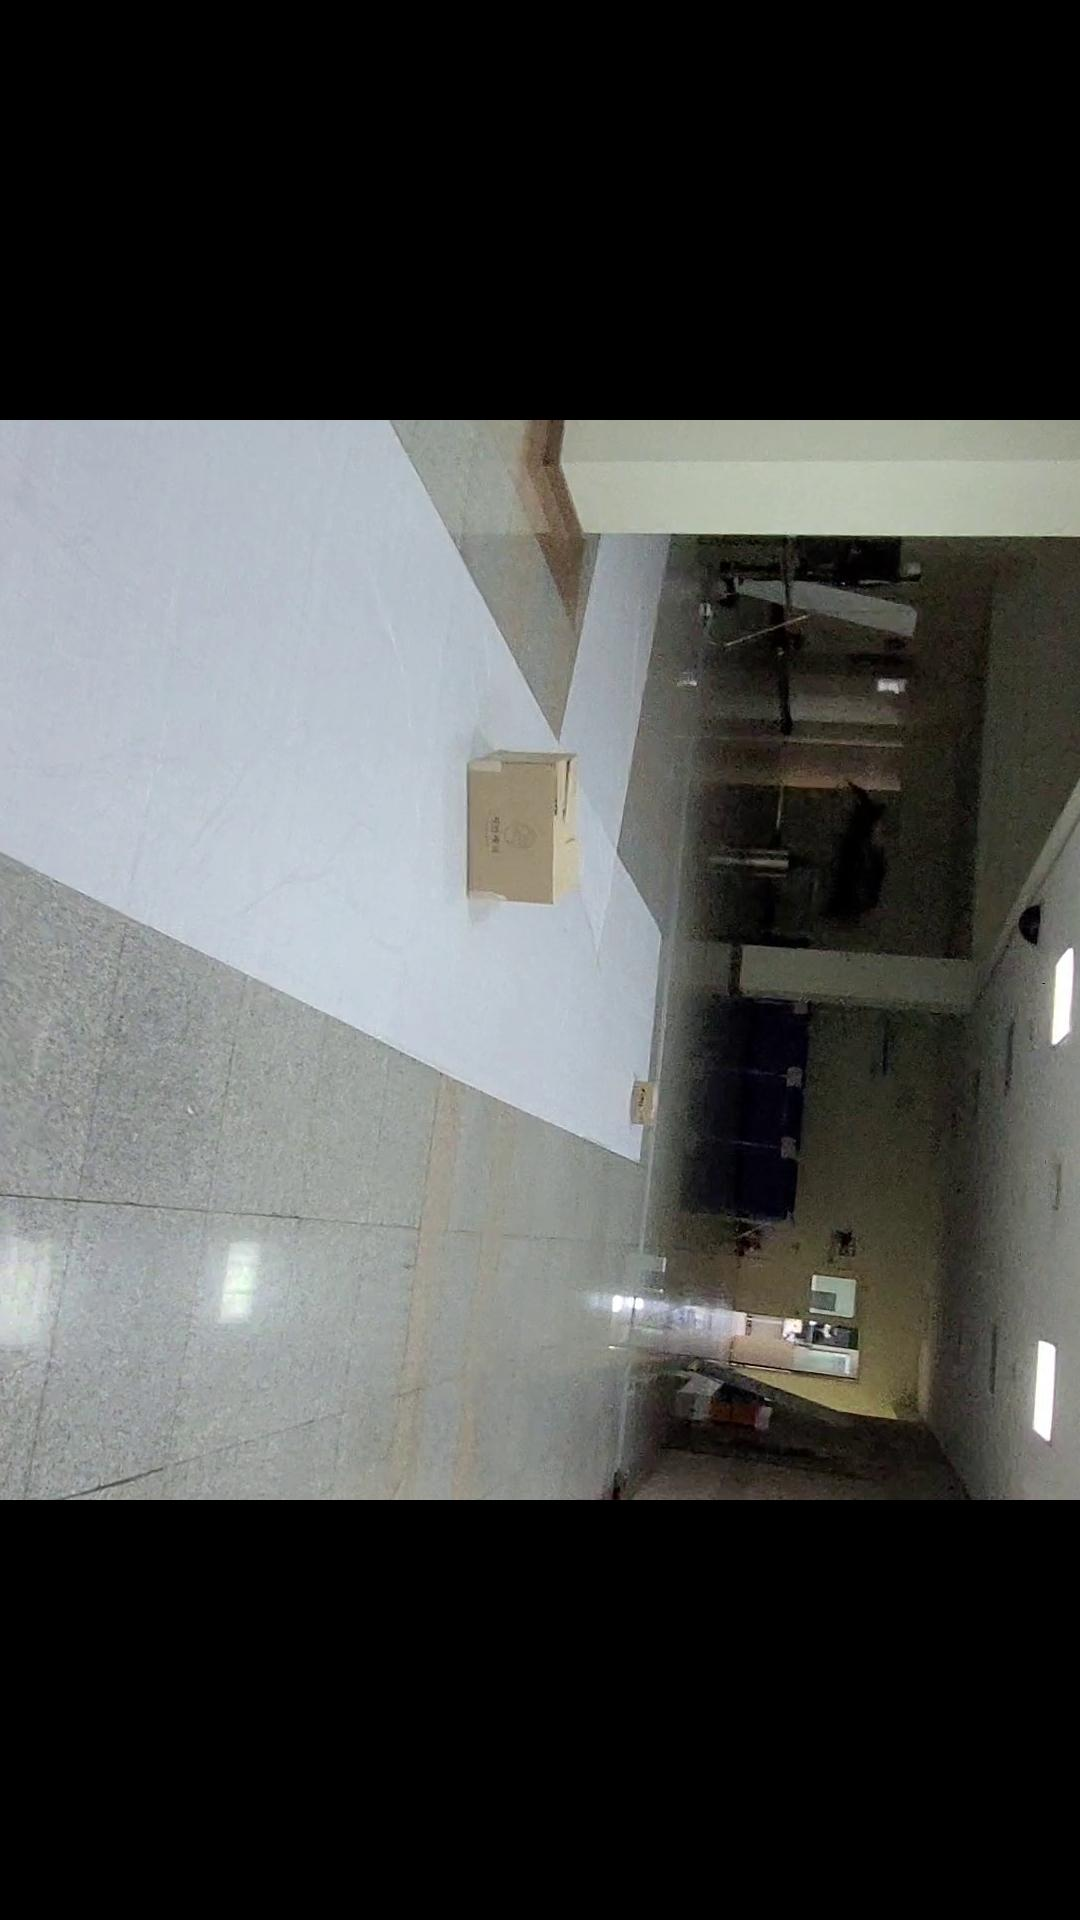Box: (438, 723, 615, 924), (608, 1054, 675, 1142)
